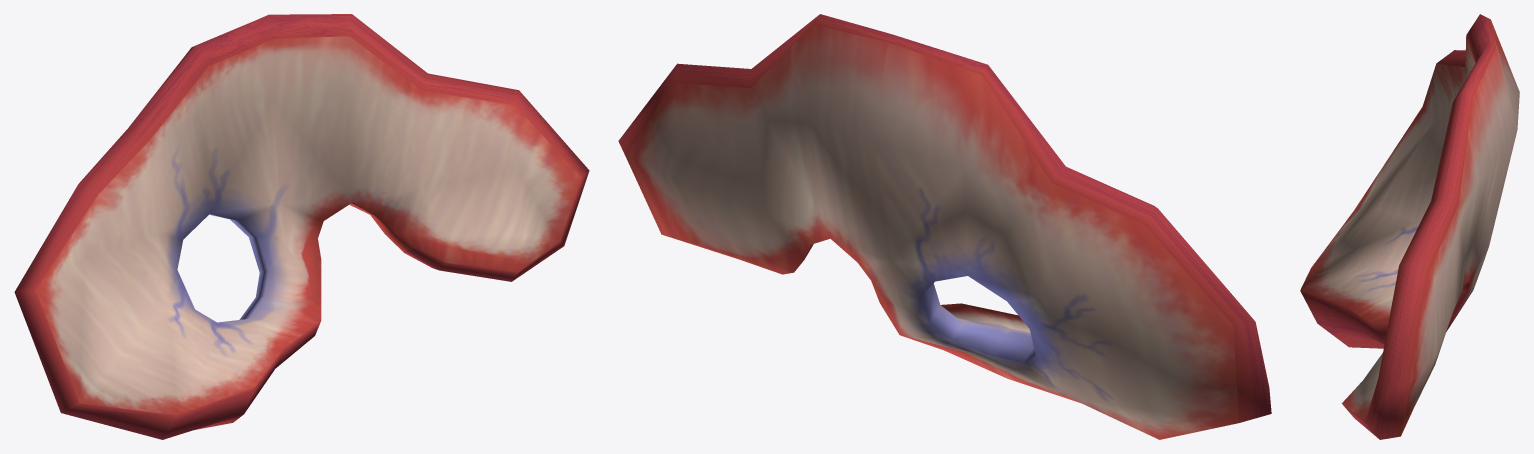
Rendered from Tendao.fbx.
3 views of the same model, side by side, from view 1: azimuth 30°, elevation 25°; view 2: azimuth 150°, elevation 25°; view 3: azimuth 270°, elevation 25° (orthographic). The views are drawn at different scales.
Visible parts, largest first — view 1: Tendao; view 2: Tendao; view 3: Tendao.
Part boxes in pixels (x1,y1,x2,y2): Tendao: (14, 14, 589, 439); Tendao: (618, 14, 1271, 439); Tendao: (1300, 14, 1519, 439).
Bounding box in the file's own units: 58.82 × 34.49 × 18.98.
